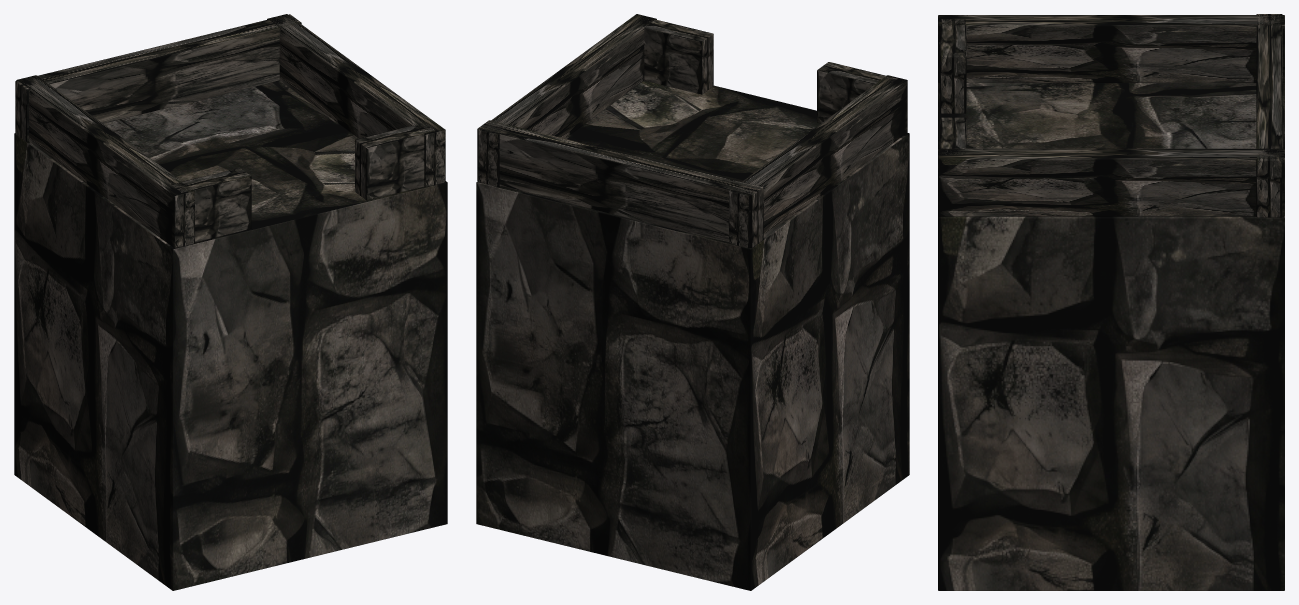
File: fortress_square_tower_walkable_LOD2.glb
3 renders of one model, left to right at view 1: azimuth 30°, elevation 25°; view 2: azimuth 150°, elevation 25°; view 3: azimuth 270°, elevation 25°, orthographic. The views are drawn at different scales.
Parts seen in each view (by area): view 1: LOD_Tower.001, LOD_North.001, LOD_West.001, LOD_East.001, LOD_SouthReturn.003, LOD_SouthReturn.002; view 2: LOD_Tower.001, LOD_North.001, LOD_West.001, LOD_East.001, LOD_SouthReturn.003, LOD_SouthReturn.002; view 3: LOD_Tower.001, LOD_East.001, LOD_West.001, LOD_North.001, LOD_SouthReturn.002, LOD_SouthReturn.003.
Boxes of the visible parts, bbox=[...] form: LOD_Tower.001: bbox=[14, 80, 447, 590]; LOD_North.001: bbox=[15, 14, 301, 141]; LOD_West.001: bbox=[16, 75, 194, 248]; LOD_East.001: bbox=[267, 14, 445, 187]; LOD_SouthReturn.003: bbox=[355, 123, 435, 200]; LOD_SouthReturn.002: bbox=[171, 167, 251, 242]; LOD_Tower.001: bbox=[476, 80, 909, 590]; LOD_North.001: bbox=[477, 120, 763, 247]; LOD_West.001: bbox=[729, 75, 907, 248]; LOD_East.001: bbox=[478, 14, 656, 187]; LOD_SouthReturn.003: bbox=[633, 18, 713, 94]; LOD_SouthReturn.002: bbox=[817, 62, 897, 123]; LOD_Tower.001: bbox=[938, 82, 1284, 590]; LOD_East.001: bbox=[938, 148, 1284, 216]; LOD_West.001: bbox=[938, 15, 1284, 82]; LOD_North.001: bbox=[1256, 14, 1282, 217]; LOD_SouthReturn.002: bbox=[940, 19, 966, 113]; LOD_SouthReturn.003: bbox=[940, 117, 966, 154].
Size of the model in its own units: 6.1 by 8.37 by 6.1.
Materials: 1 (1 with a texture image).
